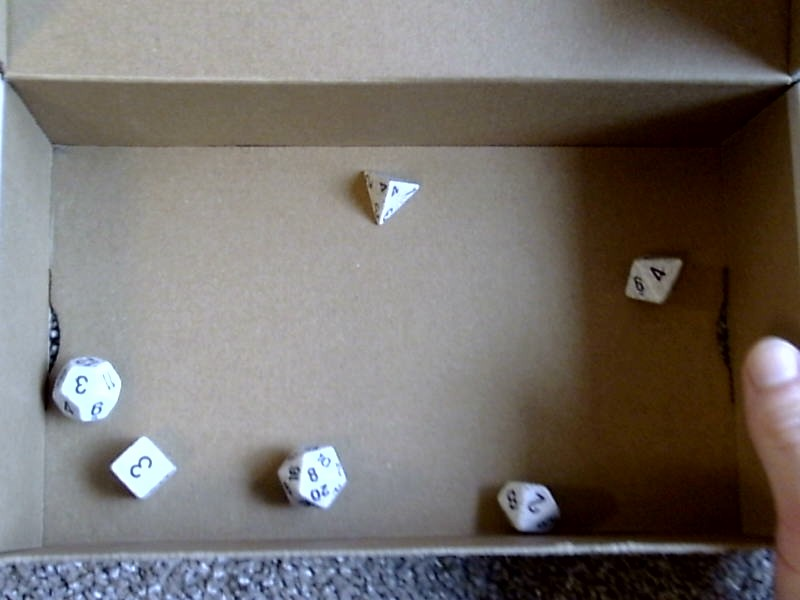d10 2: (490, 473, 565, 544)
d12 3: (49, 346, 127, 432)
d20 8: (268, 438, 351, 515)
d4 4: (357, 166, 421, 235)
d6 3: (102, 436, 182, 506)
d8 4: (618, 249, 688, 312)
